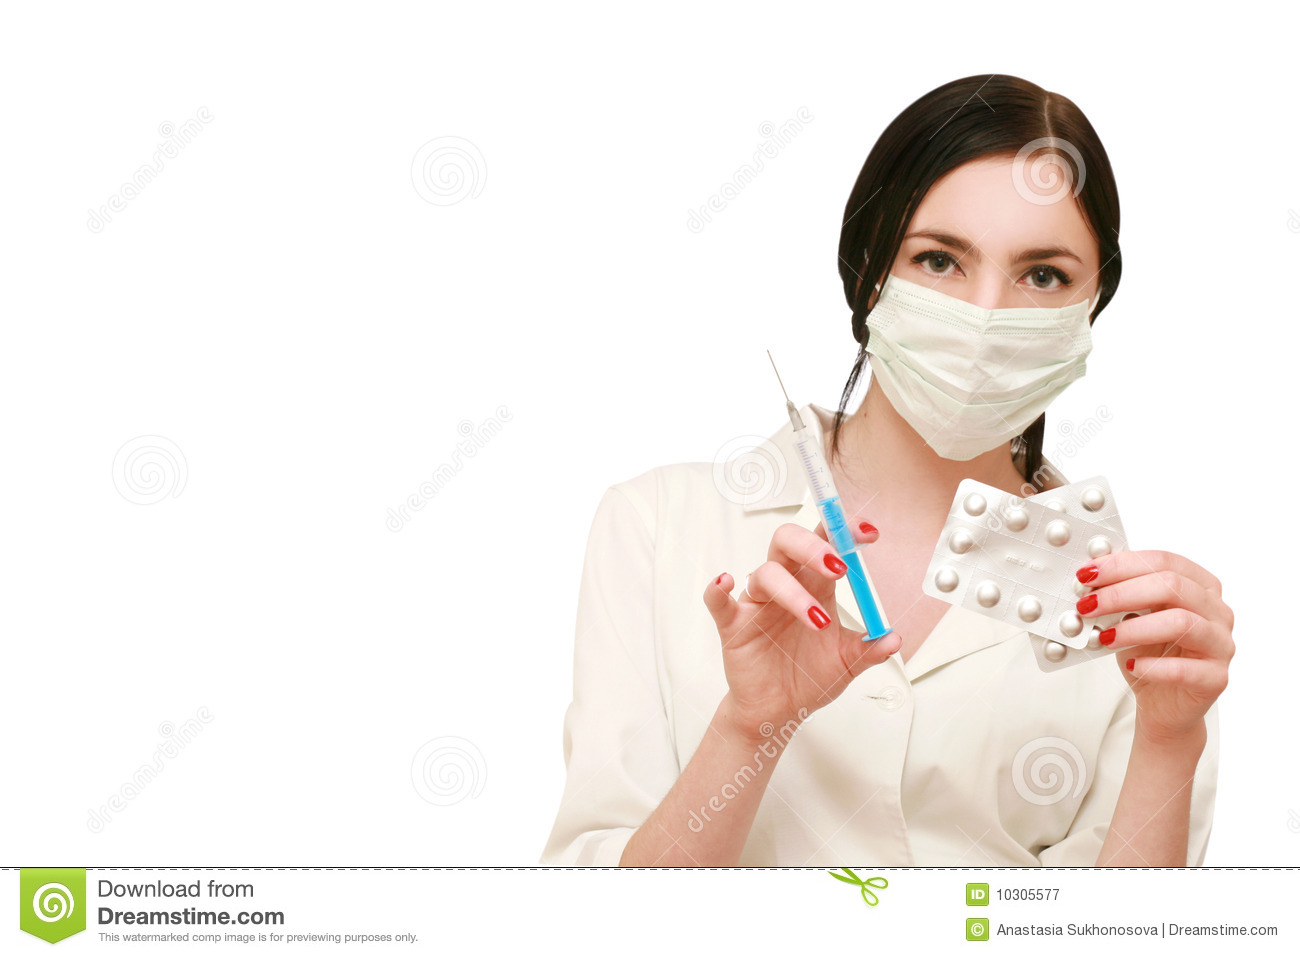mask: (861, 282, 1092, 459)
